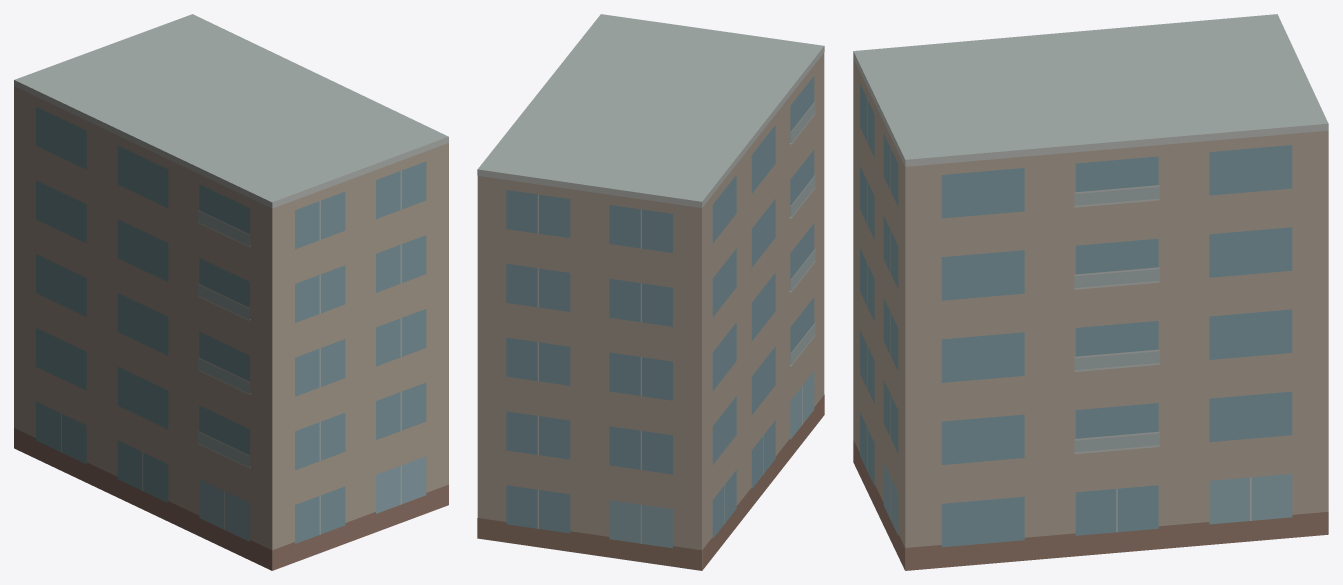
The model's file is survey-upis-32929347.glb.
The picture shows the model from 3 angles, left to right: view 1: azimuth 30°, elevation 25°; view 2: azimuth 150°, elevation 25°; view 3: azimuth 270°, elevation 25°; orthographic projection. The views are drawn at different scales.
Visible parts, largest first — view 1: survey-upis-32929347.tmp; view 2: survey-upis-32929347.tmp; view 3: survey-upis-32929347.tmp.
Boxes of the visible parts, x1,y1,x2,y2 form: survey-upis-32929347.tmp: (14,14,448,570); survey-upis-32929347.tmp: (477,14,824,570); survey-upis-32929347.tmp: (853,14,1328,570).
Bounding box in the file's own units: 10.97 × 14.4 × 15.1.
